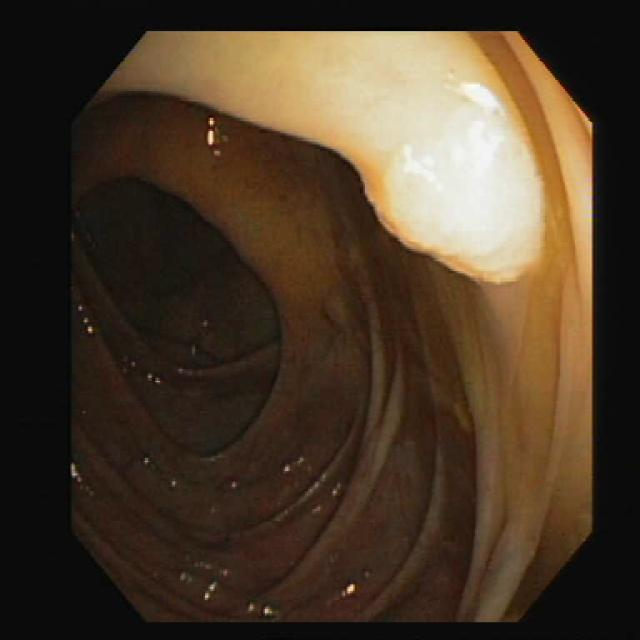tumor: (363, 73, 542, 282)
